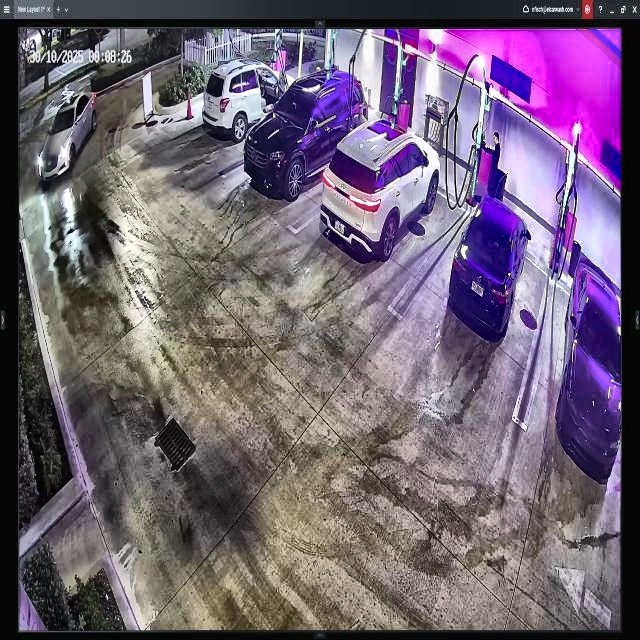Car: (242, 66, 368, 198), (327, 115, 439, 262), (449, 193, 529, 339)
